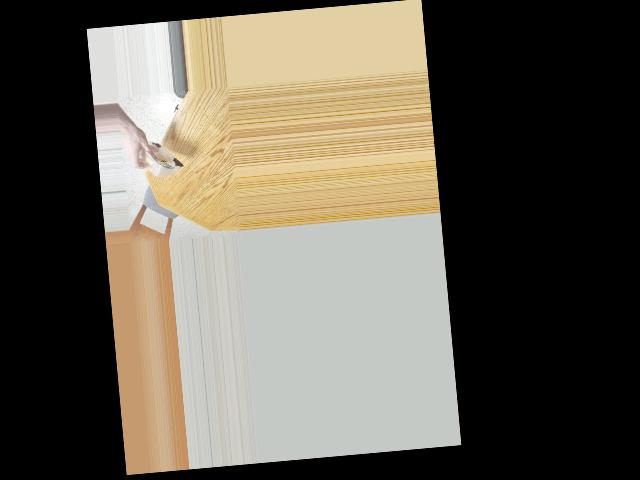cheese: (134, 124, 182, 187)
